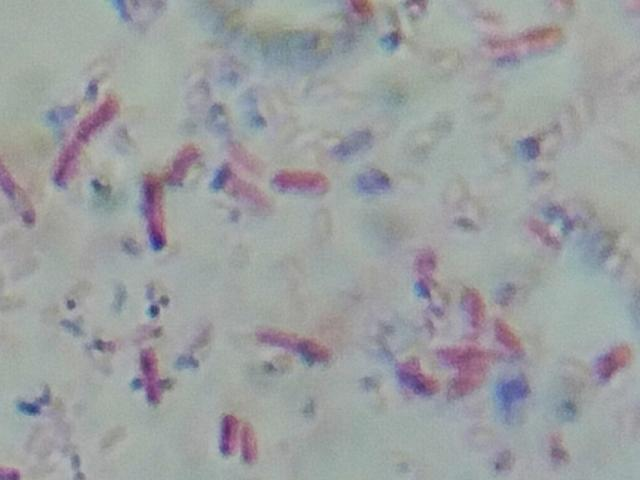E. coli: (50, 100, 123, 182), (497, 31, 563, 69), (464, 292, 489, 392), (264, 324, 327, 361), (0, 166, 39, 225), (224, 176, 270, 215), (142, 175, 166, 249), (274, 167, 327, 195), (442, 341, 502, 365), (598, 337, 631, 379), (137, 346, 162, 401), (166, 145, 194, 190), (490, 322, 523, 358), (228, 147, 264, 177), (219, 409, 239, 452), (402, 361, 428, 394), (242, 418, 257, 465), (64, 244, 64, 246)
